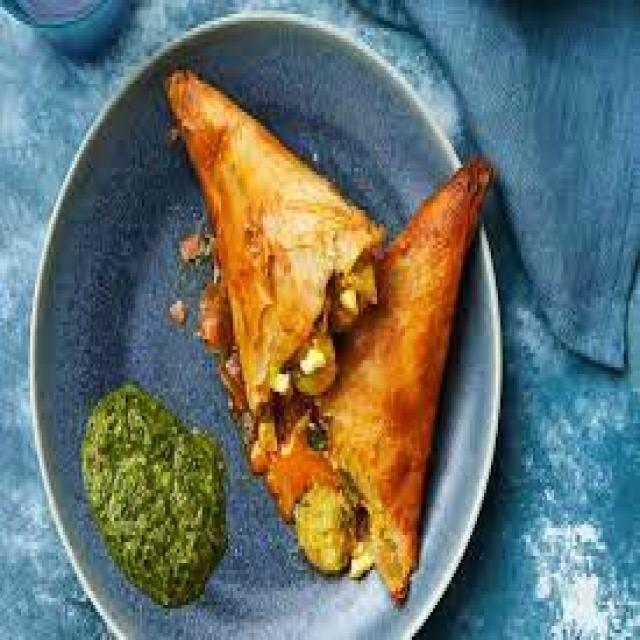brik: (290, 132, 539, 572), (128, 74, 416, 354)
